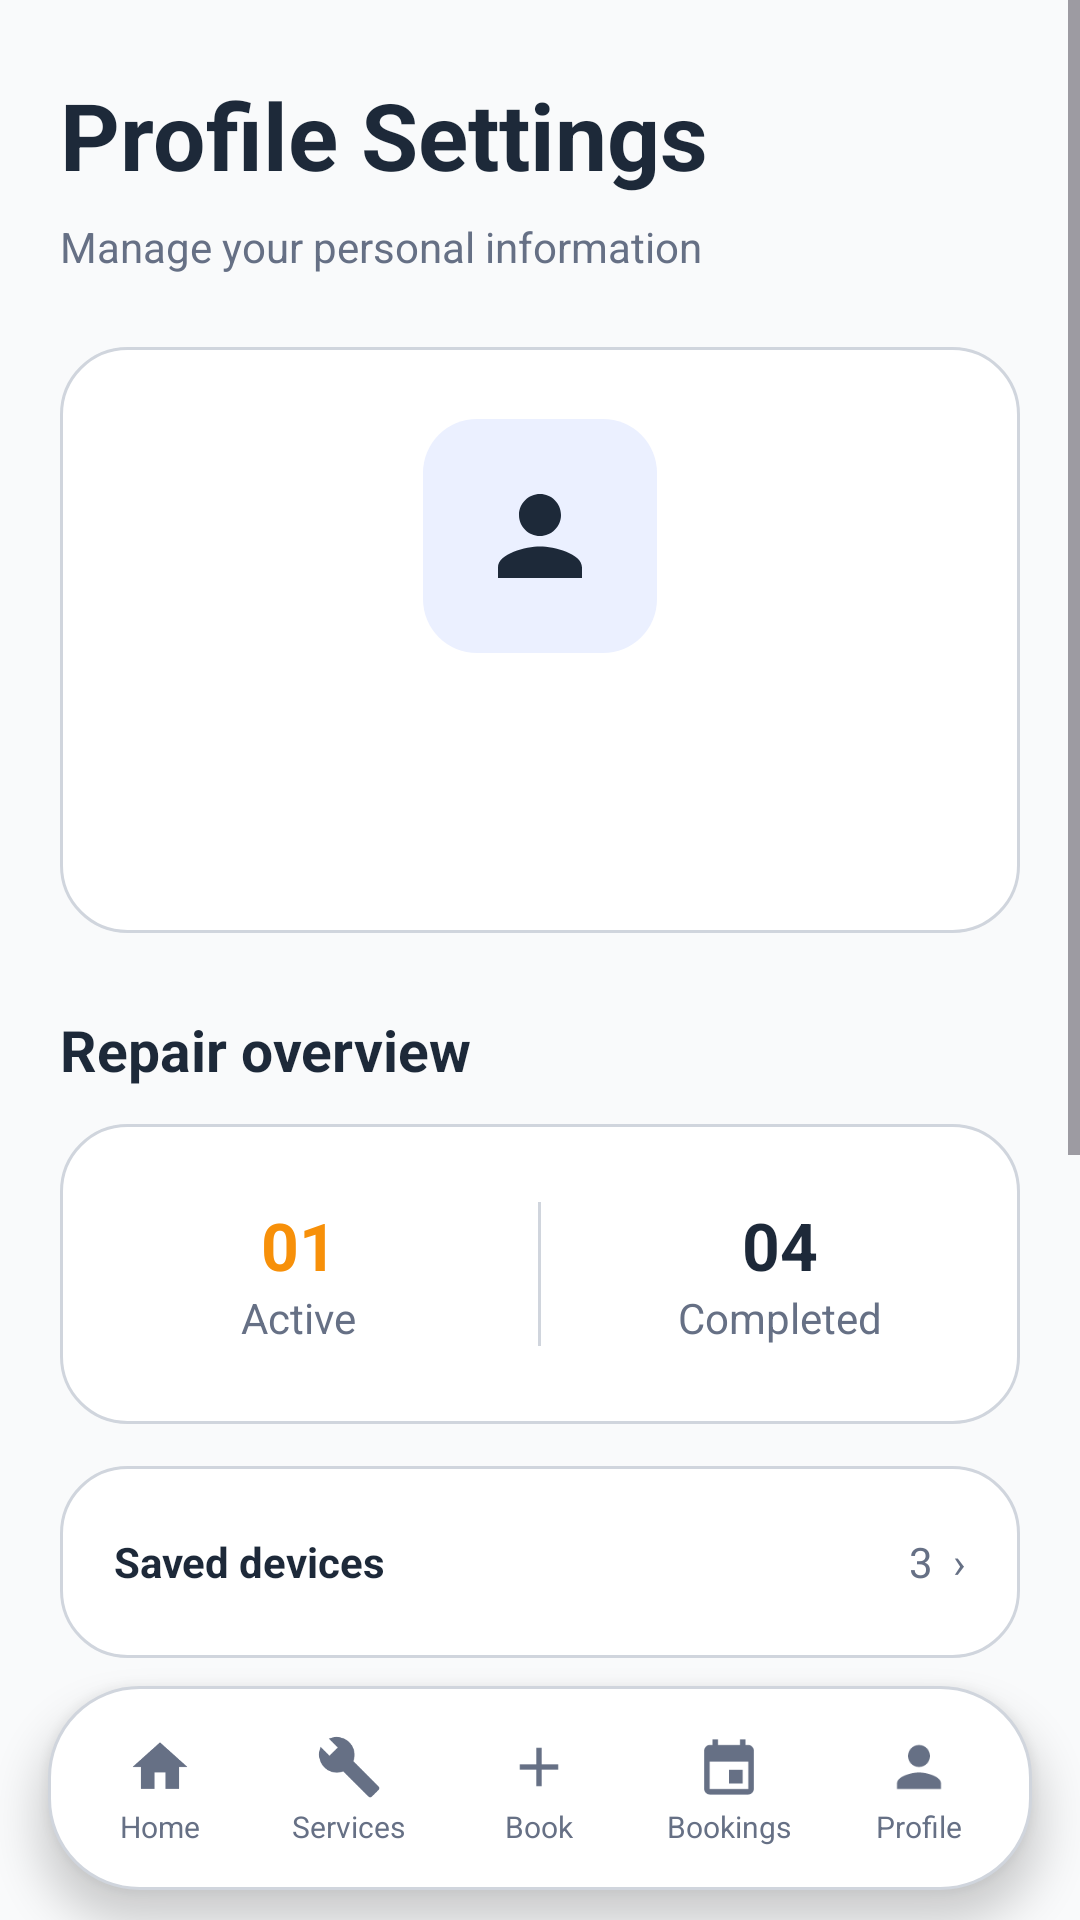

Screen size 1080x1920. Icon name, then its center in pixels as point (x, y):
customer profile: point (540, 536)
